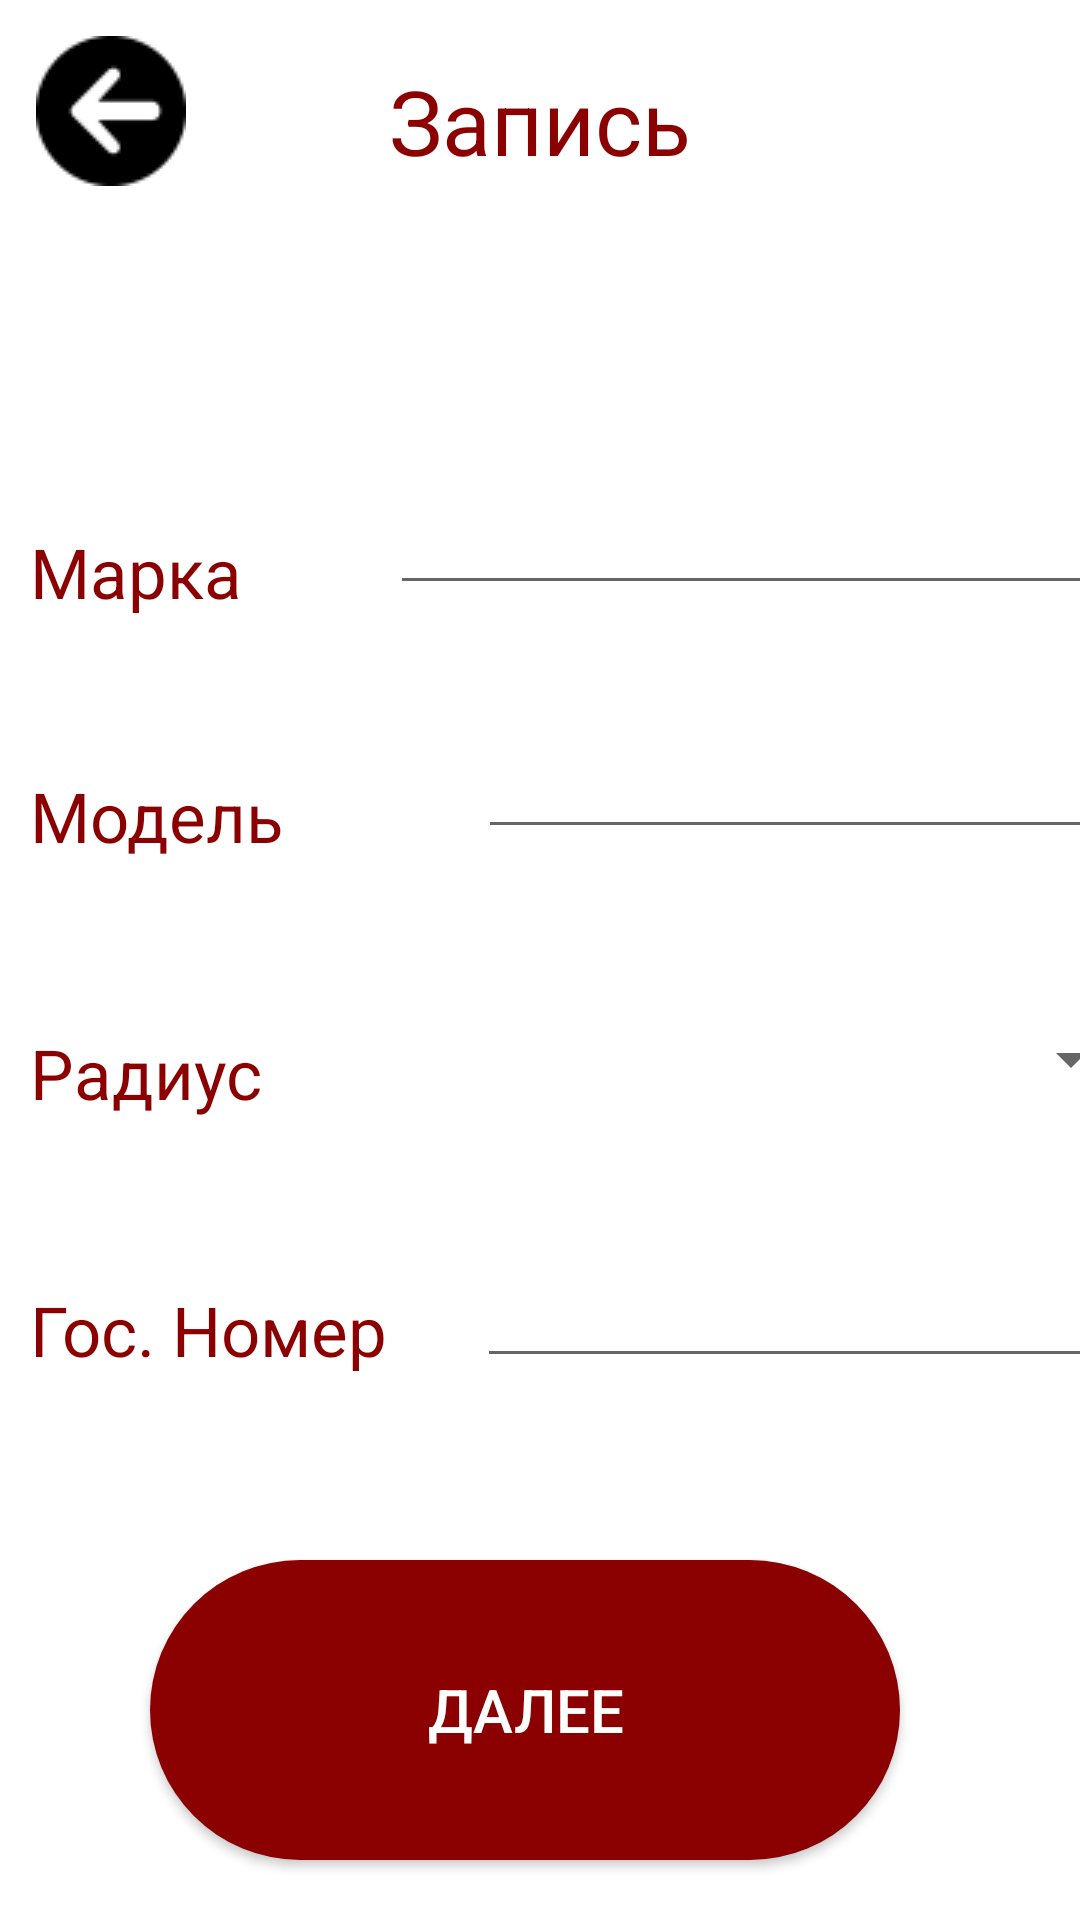

Screen size 1080×1920. Icon name, then its box in pixels as (x1, y1, x2, y2):
back: (36, 36, 186, 186)
